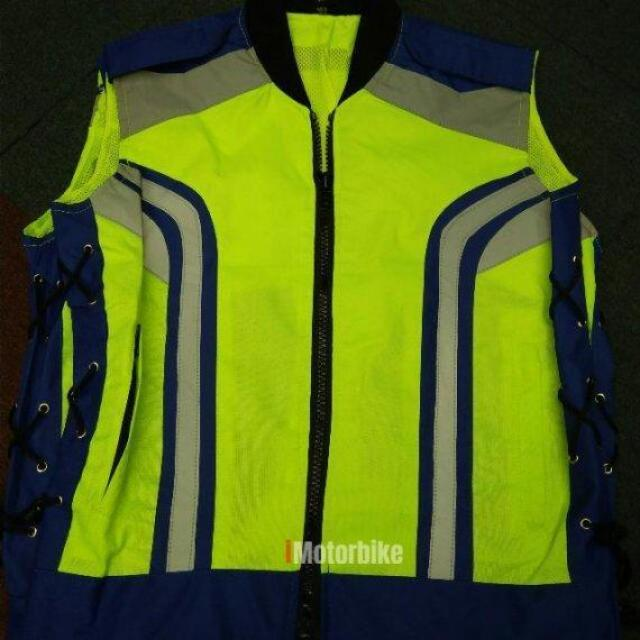Vest: (19, 0, 623, 638)
